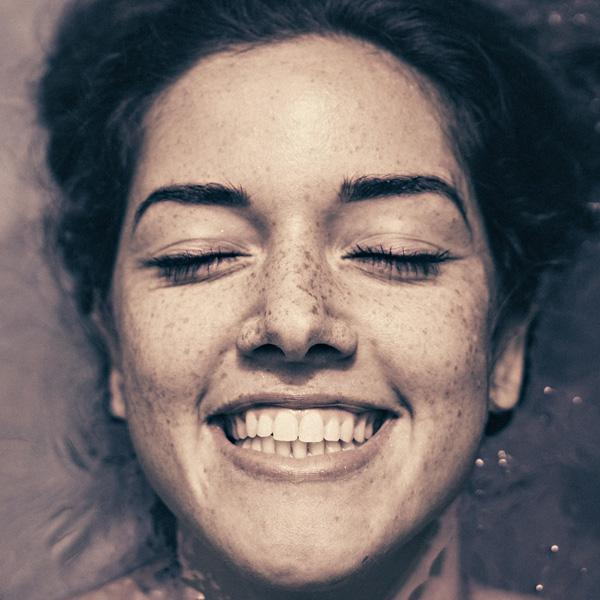Eyes: (335, 217, 468, 295), (136, 221, 259, 291)
